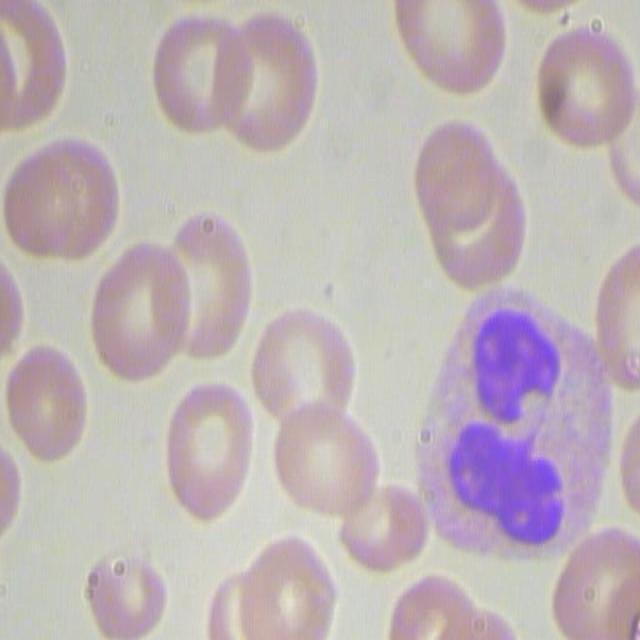RBC: (210, 11, 323, 157), (84, 238, 192, 390), (155, 210, 263, 362), (150, 1, 256, 148), (247, 300, 360, 433), (268, 391, 381, 524), (158, 378, 256, 526), (534, 17, 635, 155), (5, 332, 90, 472), (409, 113, 499, 231), (1, 149, 90, 267), (333, 481, 433, 575), (83, 532, 166, 640)
WBC: (383, 273, 625, 579)
